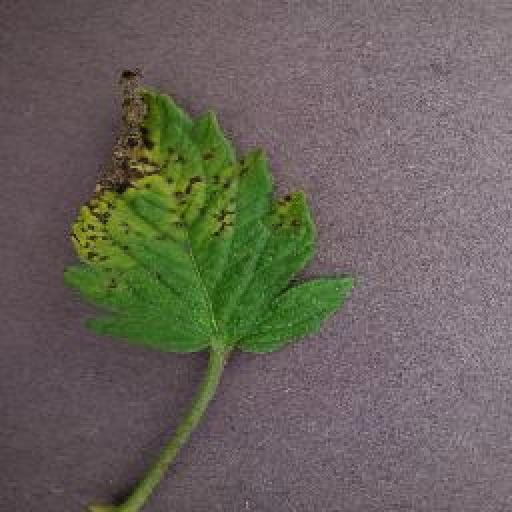disease_tomato: (64, 65, 354, 363)
